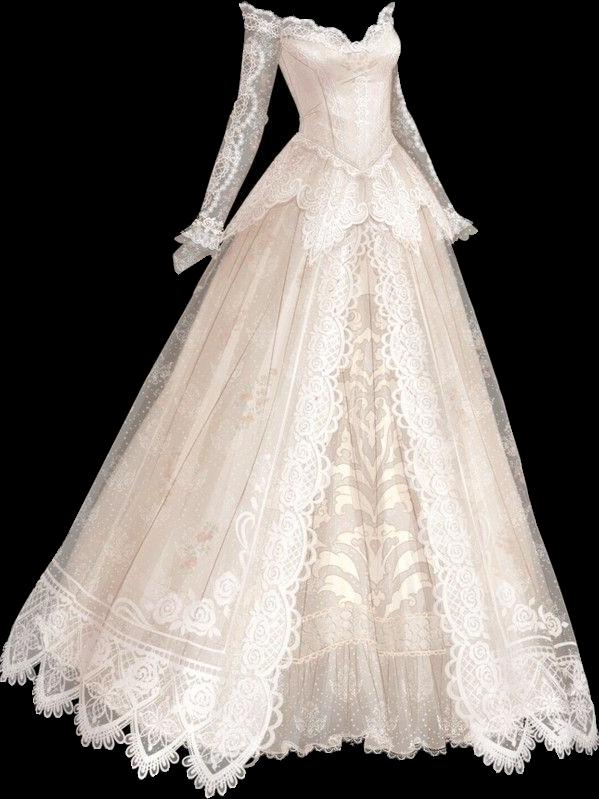Bodice: (278, 2, 400, 173)
Hemline: (0, 215, 372, 798), (367, 225, 598, 776), (225, 187, 434, 266), (258, 733, 477, 760)
Neckline: (278, 4, 394, 51)
Skirt: (1, 133, 598, 794)
Sleeve: (173, 2, 279, 274)
Sleeveline: (271, 15, 286, 70)
Waistline: (295, 128, 397, 176)
